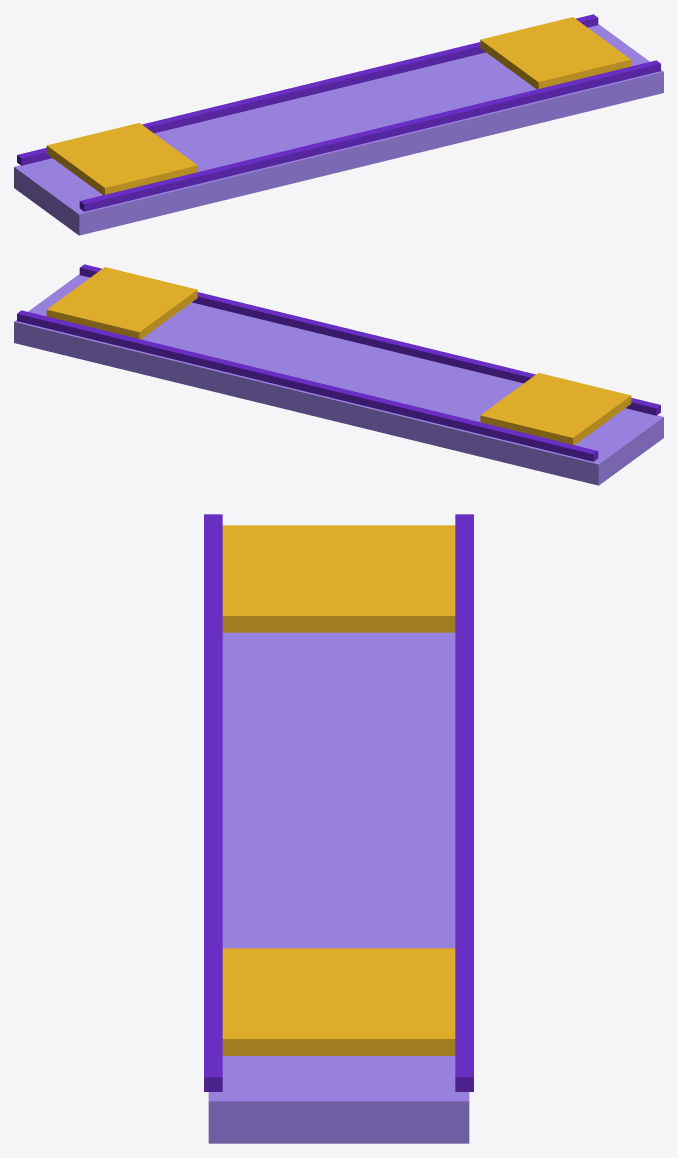
Rendered from toy_castle_ribbon_bridge.glb.
The picture shows the model from 3 angles, top to bottom: view 1: azimuth 30°, elevation 25°; view 2: azimuth 150°, elevation 25°; view 3: azimuth 270°, elevation 25°; orthographic projection. The views are drawn at different scales.
Parts seen in each view (by area): view 1: solid_1, solid_3, solid_4, solid_5, solid_2; view 2: solid_1, solid_2, solid_4, solid_5, solid_3; view 3: solid_1, solid_4, solid_5, solid_2, solid_3.
Boxes of the visible parts, <box> form: solid_1: <box>14,24,663,235</box>; solid_3: <box>79,60,660,211</box>; solid_4: <box>46,123,197,195</box>; solid_5: <box>480,17,631,89</box>; solid_2: <box>17,14,598,165</box>; solid_1: <box>14,274,663,485</box>; solid_2: <box>17,310,598,461</box>; solid_4: <box>480,373,631,445</box>; solid_5: <box>46,267,197,339</box>; solid_3: <box>79,264,660,415</box>; solid_1: <box>208,632,469,1143</box>; solid_4: <box>222,525,455,632</box>; solid_5: <box>222,948,455,1055</box>; solid_2: <box>455,514,473,1091</box>; solid_3: <box>204,514,222,1091</box>.
Bounding box in the file's own units: 5.8 × 0.36 × 1.16.
